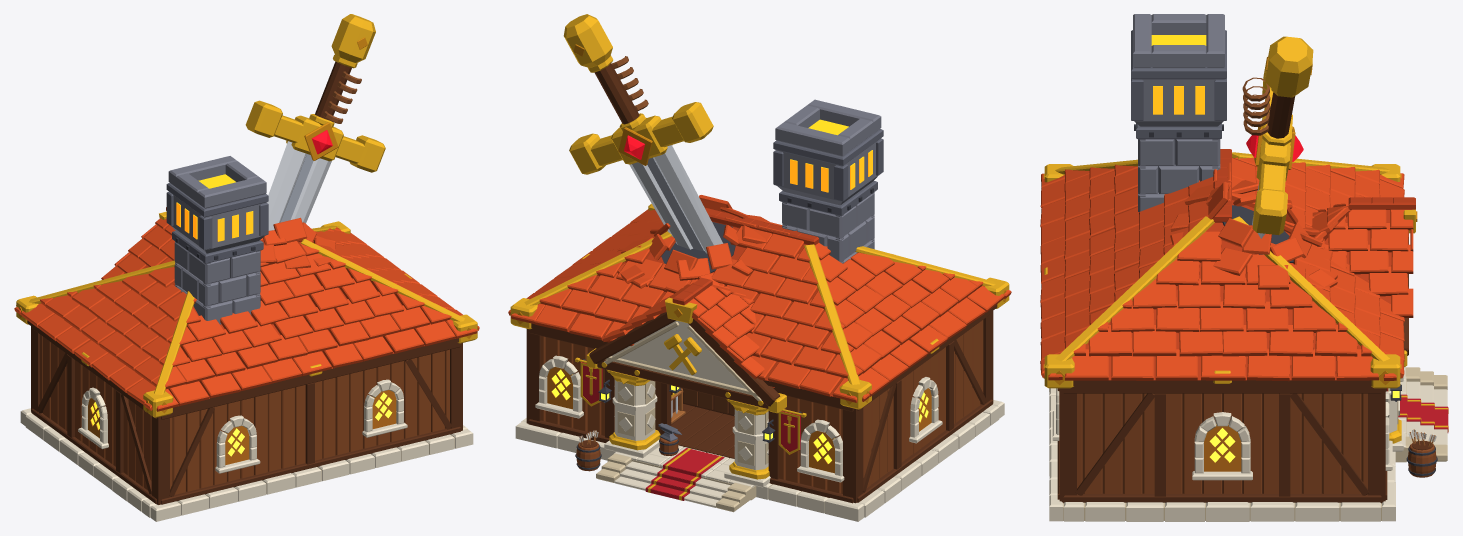
The model's file is weapon_shop.glb.
The picture shows the model from 3 angles, left to right: view 1: azimuth 30°, elevation 25°; view 2: azimuth 150°, elevation 25°; view 3: azimuth 270°, elevation 25°; orthographic projection. The views are drawn at different scales.
Visible parts, largest first — view 1: Roof_Shingles_Back, Wall_Planks_Back, Timber_Frame, Roof_Shingles_West, Foundation_Blocks, Wall_Planks_Left, Chimney_Stone, Chimney_StoneBlocks, Sword_Crossguard, Roof_HipTrims, Chimney_Iron, Sword_Blade (+16 smaller); view 2: Roof_Shingles_Front, Roof_Shingles_West, Timber_Frame, Wall_Planks_Left, Foundation_Blocks, Chimney_Stone, PorchRoof_Shingles, Wall_Planks_Front, Sword_Crossguard, Roof_BrokenTiles, Sword_Blade, Chimney_StoneBlocks (+33 smaller); view 3: Roof_Shingles_East, Wall_Planks_Right, Roof_Shingles_Back, Timber_Frame, Roof_Shingles_Front, Foundation_Blocks, Chimney_Stone, PorchRoof_Shingles, Roof_BrokenTiles, Roof_HipTrims, Chimney_StoneBlocks, Chimney_Iron (+21 smaller).
Part boxes in pixels (bbox=[...]): Roof_Shingles_Back: bbox=[156, 241, 477, 411]; Wall_Planks_Back: bbox=[170, 349, 449, 494]; Timber_Frame: bbox=[31, 326, 462, 504]; Roof_Shingles_West: bbox=[14, 266, 186, 410]; Foundation_Blocks: bbox=[20, 408, 473, 521]; Wall_Planks_Left: bbox=[40, 334, 151, 490]; Chimney_Stone: bbox=[168, 156, 266, 253]; Chimney_StoneBlocks: bbox=[174, 241, 260, 324]; Sword_Crossguard: bbox=[245, 100, 385, 172]; Roof_HipTrims: bbox=[29, 225, 464, 394]; Chimney_Iron: bbox=[166, 183, 268, 263]; Sword_Blade: bbox=[266, 141, 331, 230]; Roof_Shingles_Front: bbox=[511, 217, 857, 402]; Roof_Shingles_West: bbox=[815, 243, 1011, 401]; Timber_Frame: bbox=[526, 311, 993, 503]; Wall_Planks_Left: bbox=[863, 320, 983, 487]; Foundation_Blocks: bbox=[515, 400, 1004, 521]; Chimney_Stone: bbox=[775, 99, 881, 205]; PorchRoof_Shingles: bbox=[602, 282, 764, 378]; Wall_Planks_Front: bbox=[541, 336, 842, 493]; Sword_Crossguard: bbox=[569, 102, 713, 174]; Roof_BrokenTiles: bbox=[617, 195, 769, 293]; Sword_Blade: bbox=[629, 145, 723, 253]; Chimney_StoneBlocks: bbox=[782, 192, 874, 263]; Roof_Shingles_East: bbox=[1048, 231, 1396, 381]; Wall_Planks_Right: bbox=[1077, 393, 1367, 494]; Roof_Shingles_Back: bbox=[1040, 164, 1217, 377]; Timber_Frame: bbox=[1057, 386, 1387, 503]; Roof_Shingles_Front: bbox=[1228, 157, 1404, 378]; Foundation_Blocks: bbox=[1049, 388, 1395, 521]; Chimney_Stone: bbox=[1133, 14, 1224, 126]; PorchRoof_Shingles: bbox=[1311, 203, 1413, 317]; Roof_BrokenTiles: bbox=[1170, 180, 1337, 289]; Roof_HipTrims: bbox=[1055, 152, 1389, 361]; Chimney_StoneBlocks: bbox=[1138, 139, 1220, 211]; Chimney_Iron: bbox=[1131, 30, 1226, 139].
Size of the model in its own units: 39.32 by 41.59 by 32.82.
